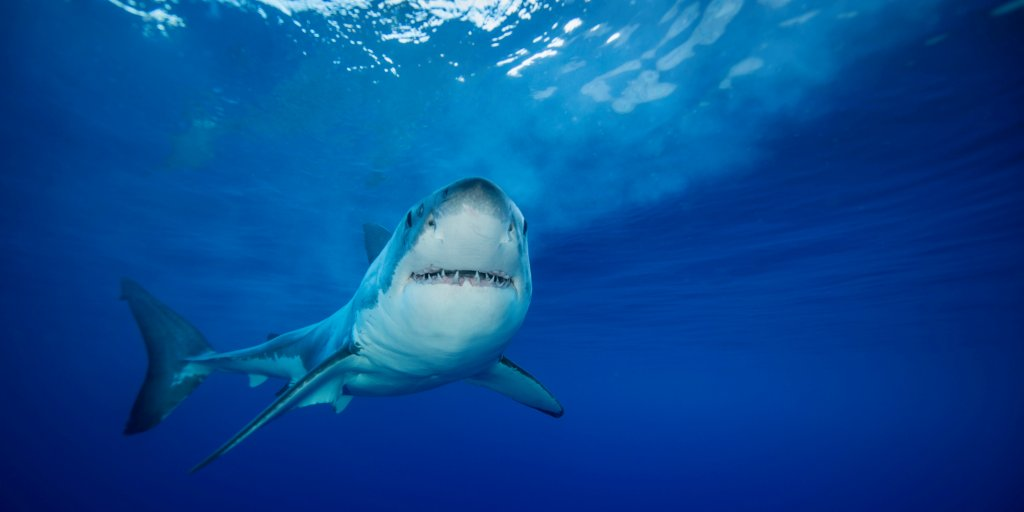shark: (104, 170, 578, 484)
